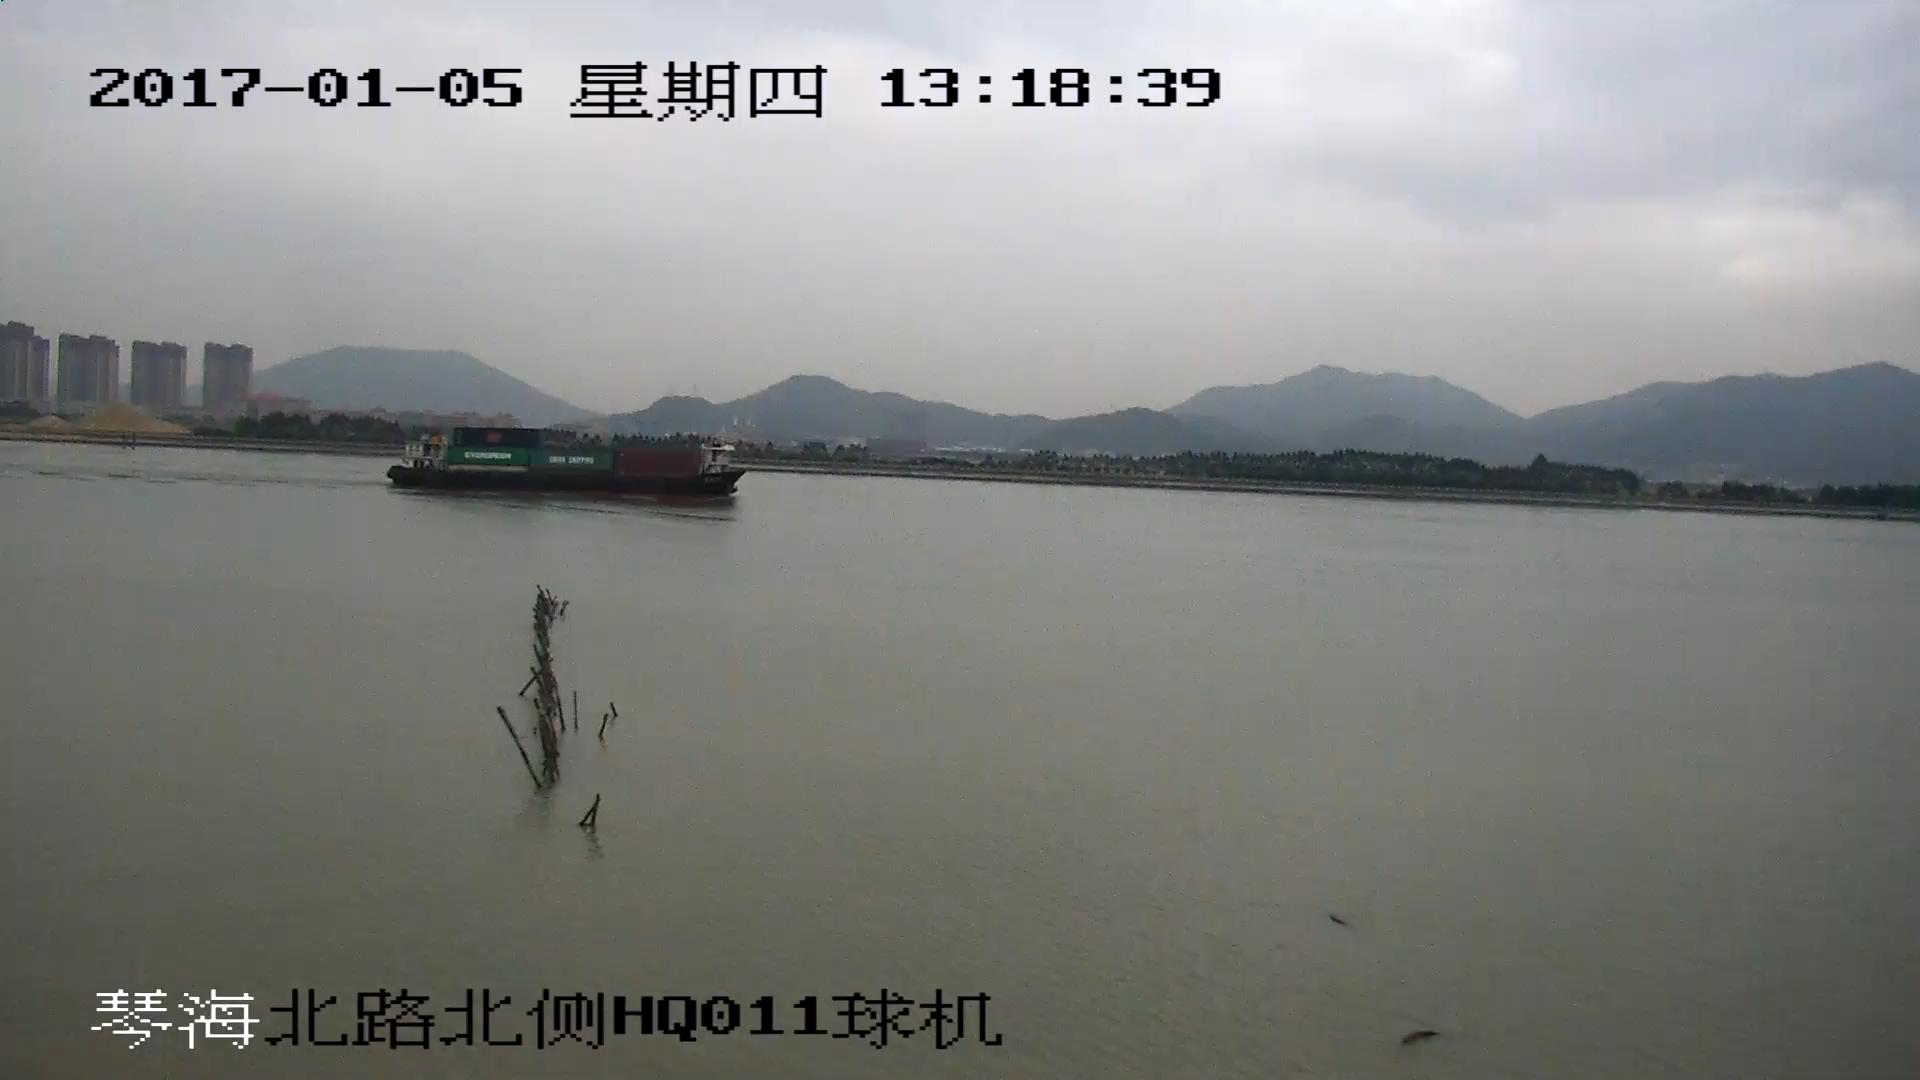container ship: (385, 423, 748, 497)
